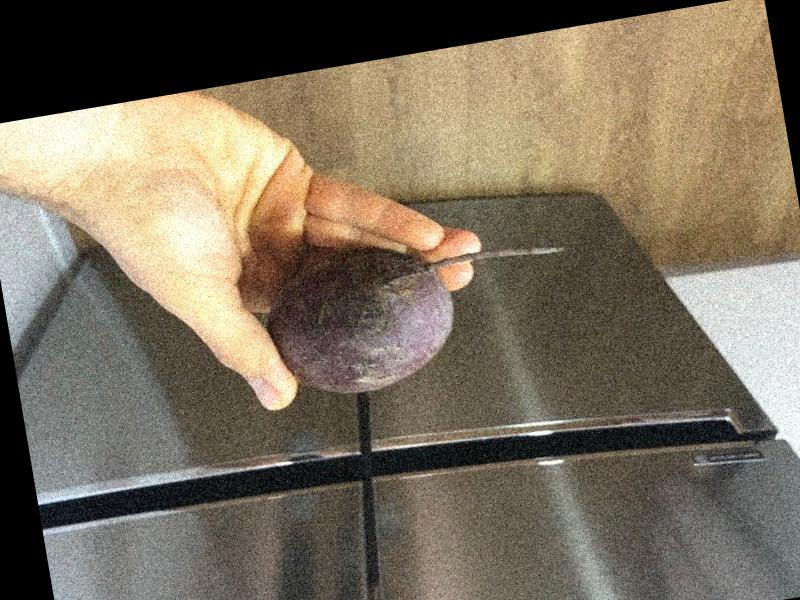Beet: (260, 217, 584, 406)
